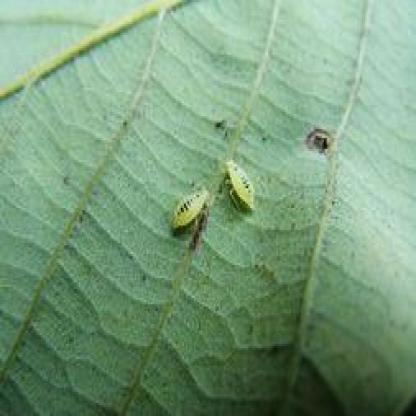aphid: (166, 182, 216, 242), (219, 154, 261, 218)
